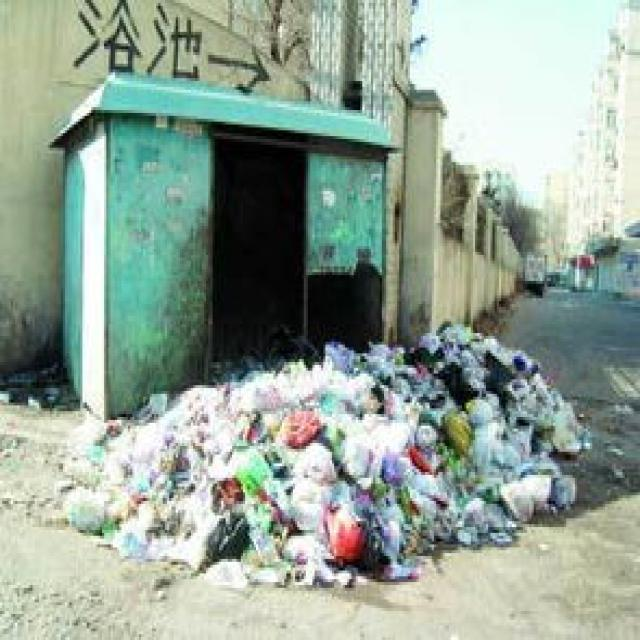garbage: (65, 322, 579, 582)
